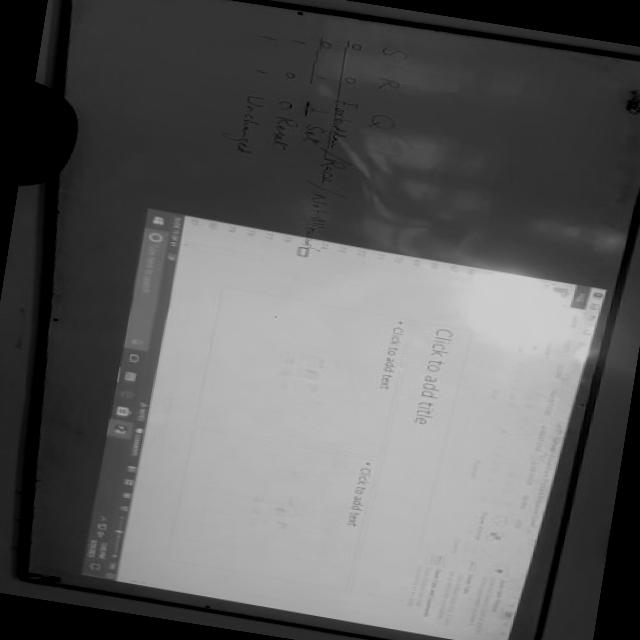Slide: (79, 208, 610, 640)
White-board: (24, 0, 640, 640)
